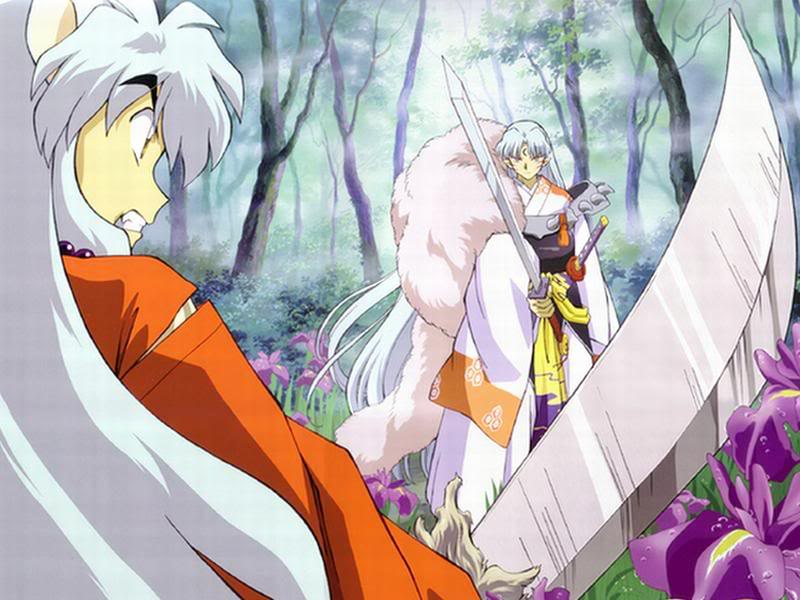sesshomaru: (464, 120, 587, 210)
